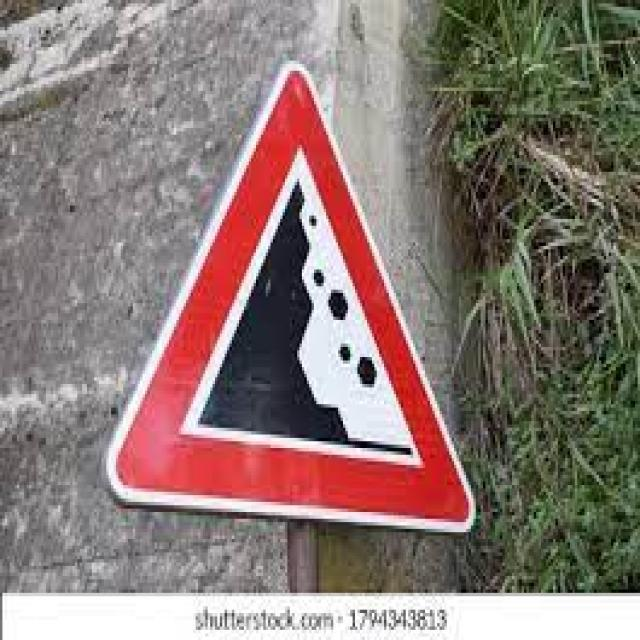falling rocks: (104, 59, 481, 535)
